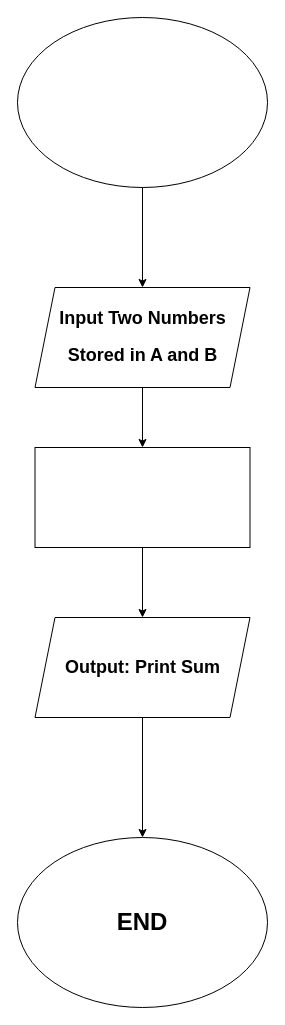
The diagram is 285 pixels wide and 1025 high, and some of its shapes have lost their labels. The shapes that lost their labels are listed below. From the top down, each one's box as (x1, y1, x2, y2) in pixels, then its label:
(16, 16, 268, 188): Start
(34, 446, 250, 548): Add A and B result stored in sum
